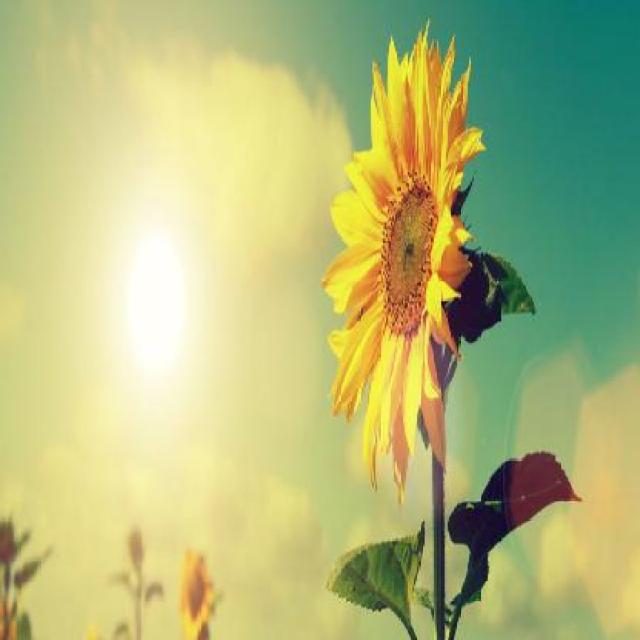sunflower: (315, 9, 482, 508)
